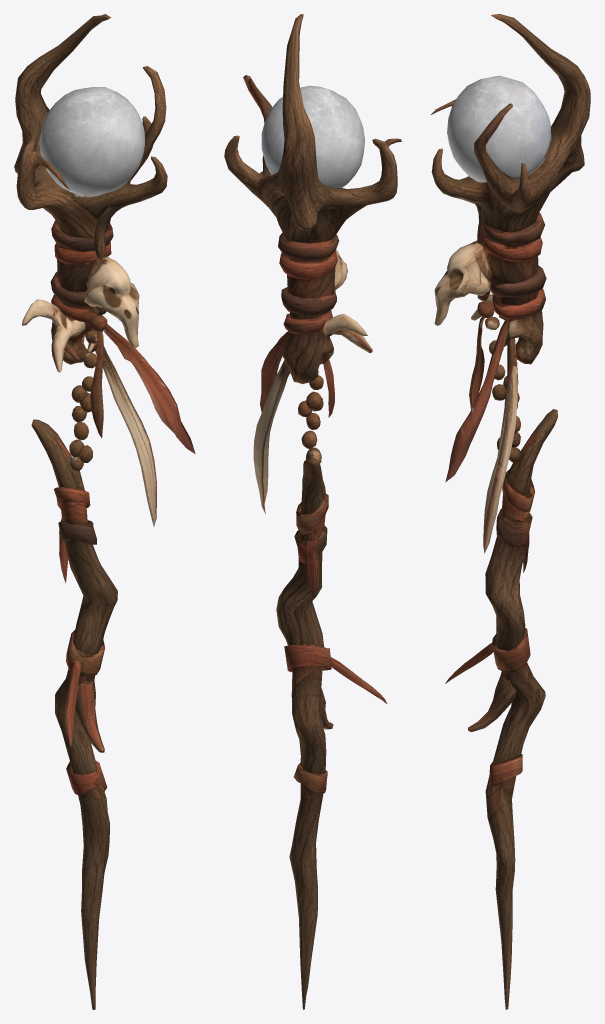
The model's file is baston_chaman.glb.
The picture shows the model from 3 angles, left to right: view 1: azimuth 30°, elevation 25°; view 2: azimuth 150°, elevation 25°; view 3: azimuth 270°, elevation 25°; orthographic projection.
Size of the model in its own units: 0.1642 by 1 by 0.1458.
Materials: 1 (1 with a texture image).
